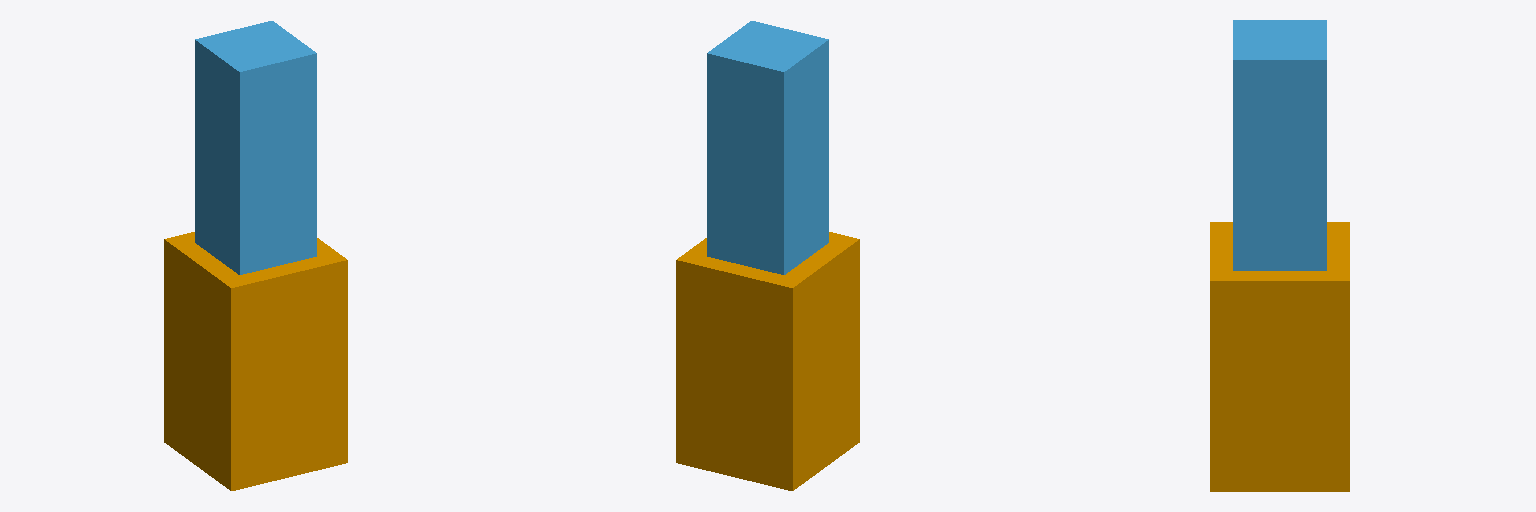
URDF robot description (urdf_robot):
<?xml version="1.0" ?>
<robot name="urdf_robot">

  <link name="base_link">
    <visual>
      <origin rpy="0 0 0" xyz="0 0 0.25"/>
      <geometry>
      <box size="0.3 0.3 0.5"/>
      </geometry>
    </visual>
    <collision>
      <origin rpy="0 0 0" xyz="0 0 0.25"/>
      <geometry>
         <box size="0.3 0.3 0.5"/>
      </geometry>
    </collision>
  </link>

   <link name="link_1">
    <visual>
      <origin rpy="0 0 0" xyz="0 0 0.5"/>
      <geometry>
        <box size="0.2 .2 1"/>
      </geometry>
    </visual>
    <collision>
      <origin rpy="0 0 0" xyz="0 0 0.5"/>
      <geometry>
        <box size="0.2 .2 1"/>
      </geometry>
    </collision>
  </link>

  <link name="tool0"/>

   <joint name="joint_1" type="prismatic">
    <parent link="base_link"/>
    <child link="link_1"/>
    <origin xyz="0 0 0"/>
        <axis xyz="0 0 1"/>
        <limit effort="1000.0" lower="-0.5" upper="0.5" velocity="0.5"/>
  </joint>

<joint name="joint_2" type="revolute">
  <parent link="link_1"/>
  <child link="tool0"/>
  <limit effort="30" velocity="1.0" lower="-0.1" upper="0.1" />
  <origin xyz="0 0 1" rpy="0 0 0" />
  <axis xyz="0 0 1" />
</joint>
 
</robot>

--- Render facts (derived) ---
3 views of the same robot in one strip: view 1: azimuth 30°, elevation 25°; view 2: azimuth 150°, elevation 25°; view 3: azimuth 270°, elevation 25° (orthographic).
Robot: urdf_robot — 3 links, 2 joints (1 revolute, 1 prismatic); root link base_link; default pose: every joint at zero.
Links seen in each view (by area): view 1: base_link, link_1; view 2: base_link, link_1; view 3: base_link, link_1.
Boxes of the visible links, <box> form: base_link: <box>164,232,347,490</box>; link_1: <box>195,21,316,274</box>; base_link: <box>676,232,859,490</box>; link_1: <box>707,21,828,274</box>; base_link: <box>1210,222,1349,491</box>; link_1: <box>1233,20,1326,270</box>.
Bounding box of the posed robot: 0.3 × 0.3 × 1 m (x, y, z).
Geometry: primitives only (box / cylinder / sphere), no mesh files.